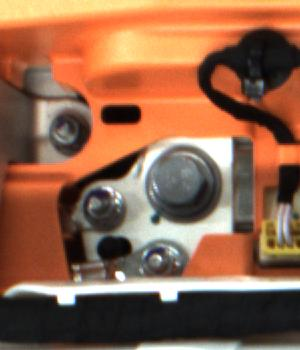nut_b: (140, 144, 233, 218)
screw_s: (47, 110, 96, 158), (78, 180, 121, 221), (139, 241, 185, 274)
